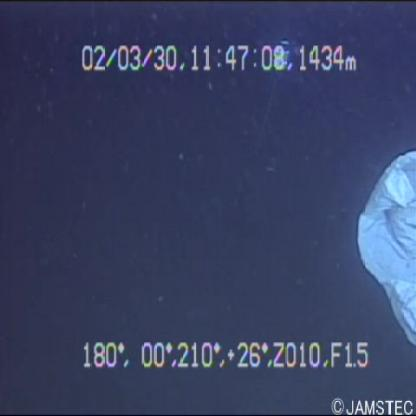Rác: (344, 131, 416, 351)
